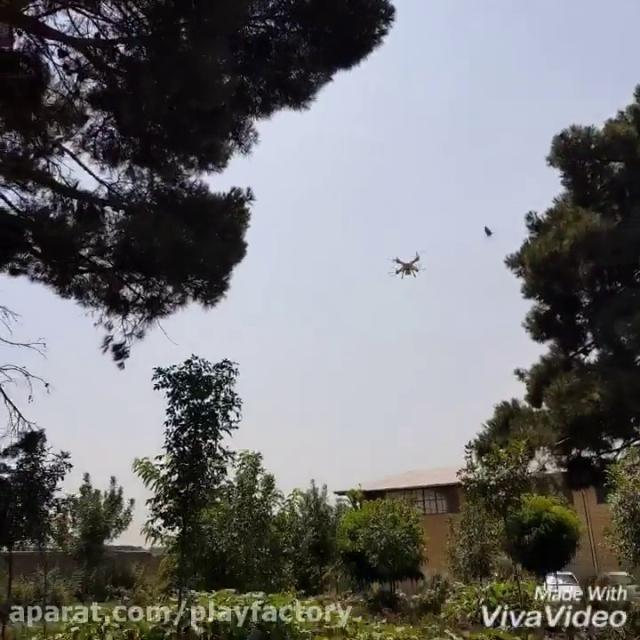drone: (384, 247, 428, 284)
